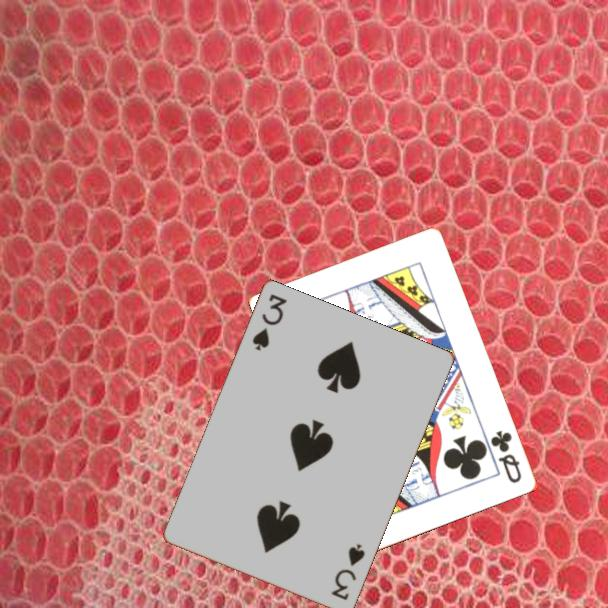c12: (487, 427, 525, 486)
s03: (249, 291, 290, 354), (328, 540, 368, 604)
